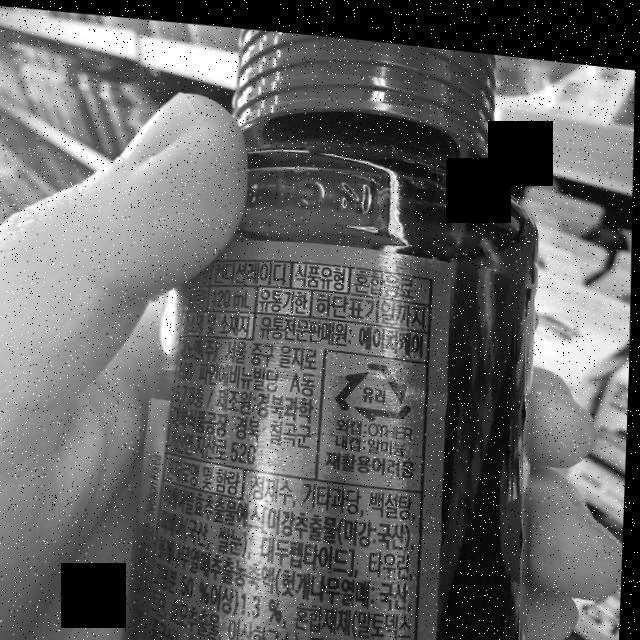Glass: (332, 347, 419, 419)
